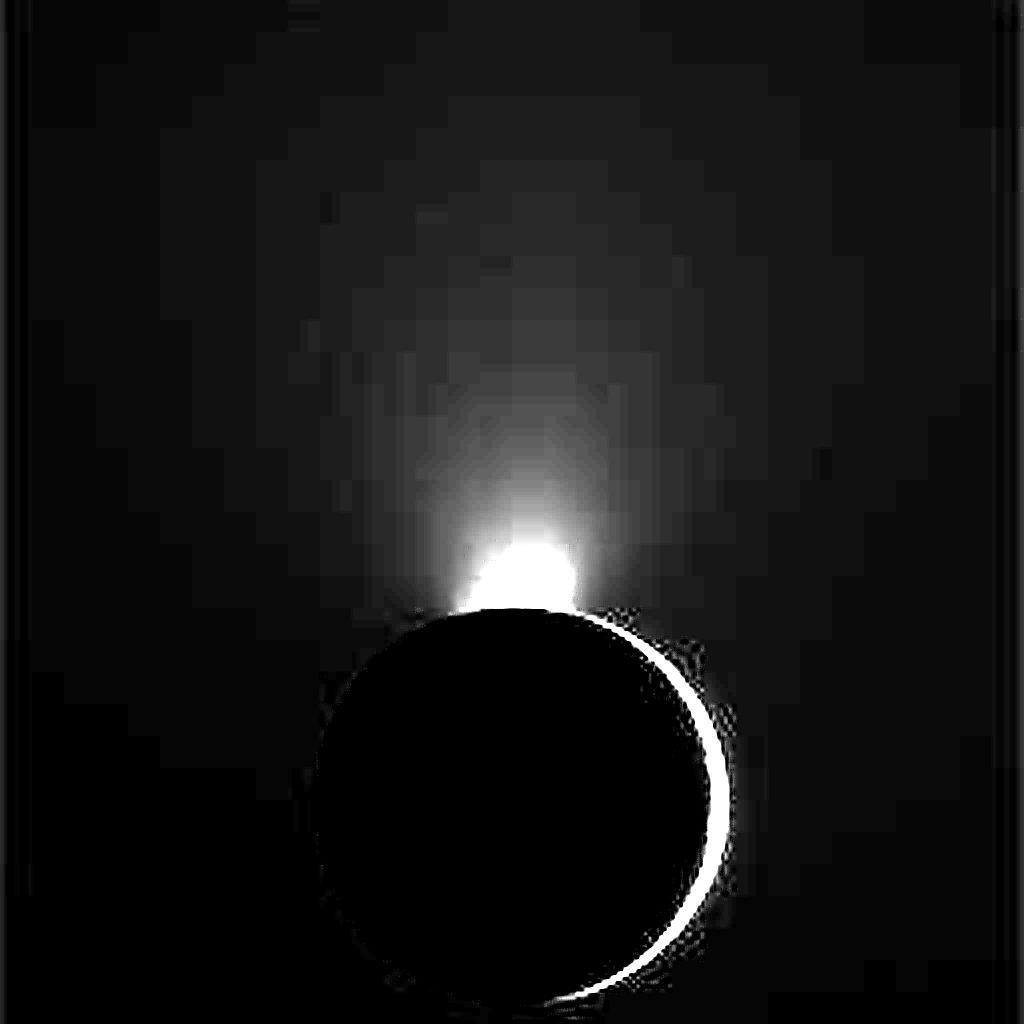plumes: (458, 540, 580, 612)
